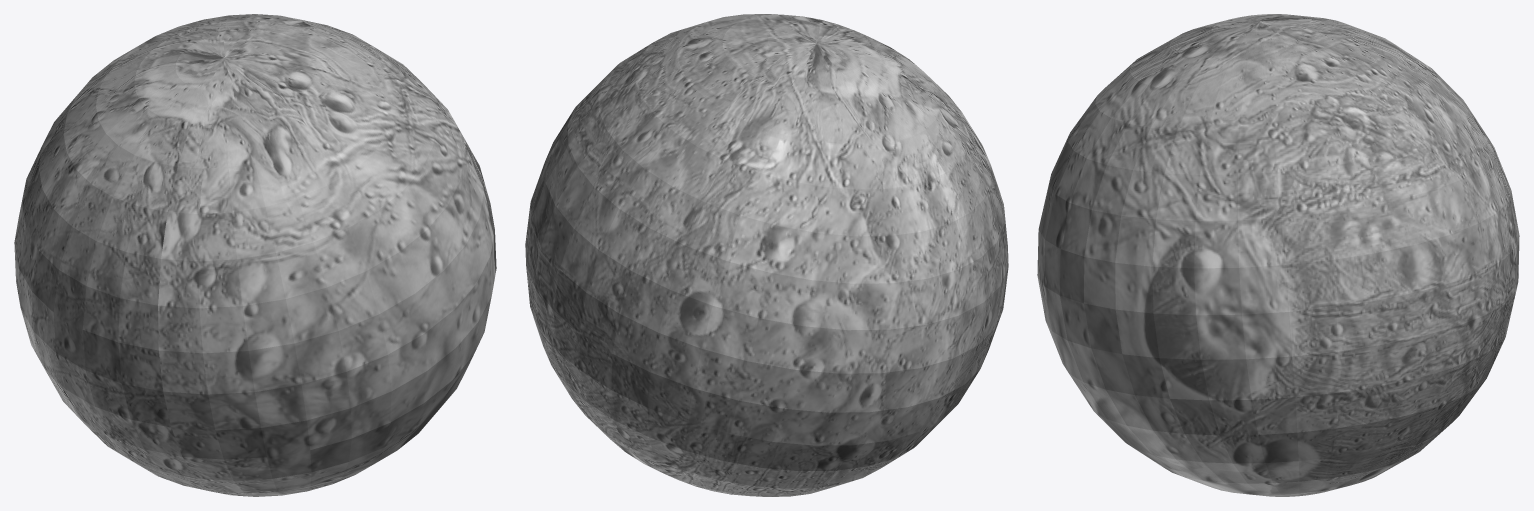
Rendered from moonL.obj.
3 renders of one model, left to right at view 1: azimuth 30°, elevation 25°; view 2: azimuth 150°, elevation 25°; view 3: azimuth 270°, elevation 25°, orthographic.
Parts seen in each view (by area): view 1: Sphere; view 2: Sphere; view 3: Sphere.
Boxes of the visible parts, x1,y1,x2,y2 form: Sphere: (14, 14, 496, 496); Sphere: (525, 14, 1008, 496); Sphere: (1037, 14, 1519, 496).
Bounding box in the file's own units: 22.46 × 22.48 × 22.42.
Materials: 1 (1 with a texture image).
